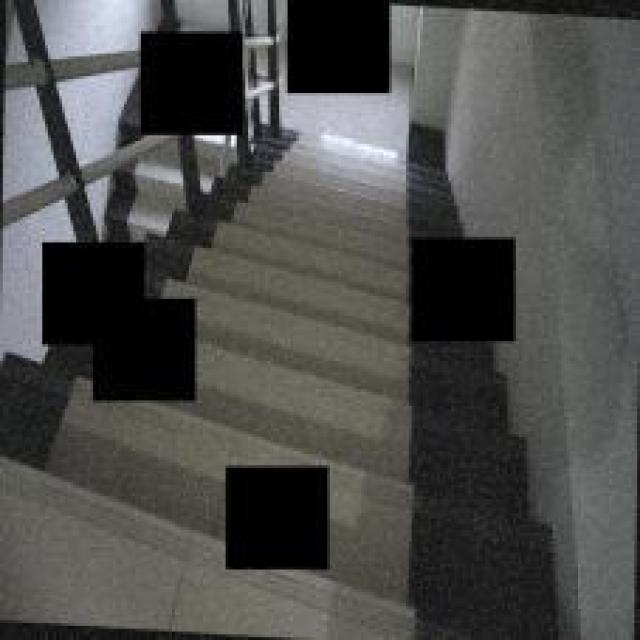downstair: (260, 97, 410, 449)
